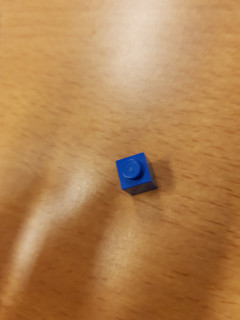1x1 blue: (111, 148, 160, 200)
